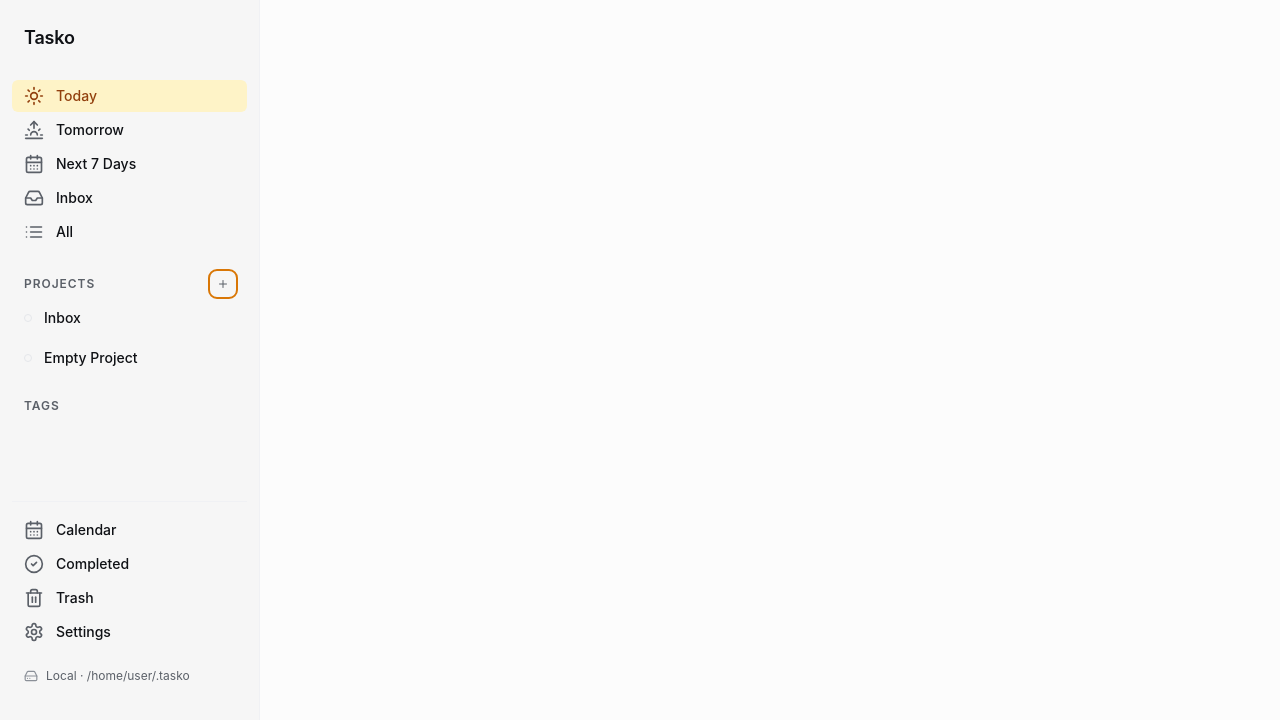
Test case: Sidebar — delete project cascade › shows 0 active items when project has no items
Right-click the list item "Empty Project": (81, 358) [24,349,138,366]
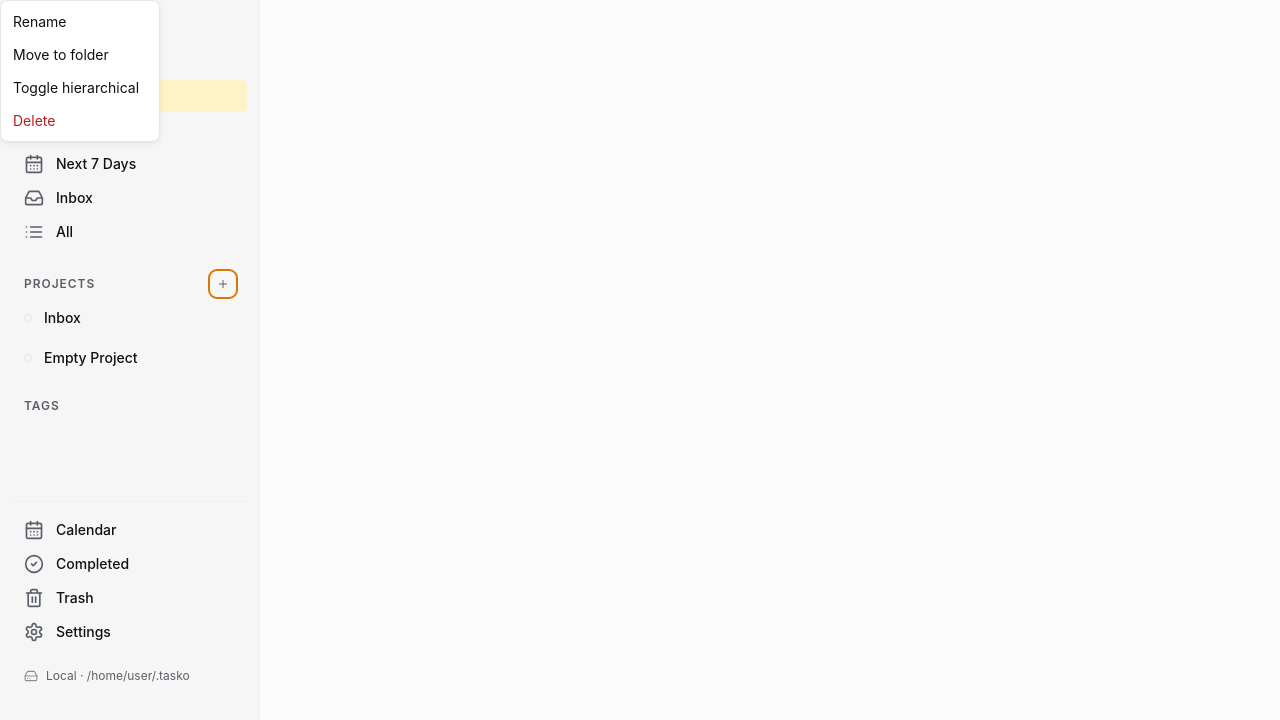
Click the menu item "Delete": (80, 120) [1,104,159,137]
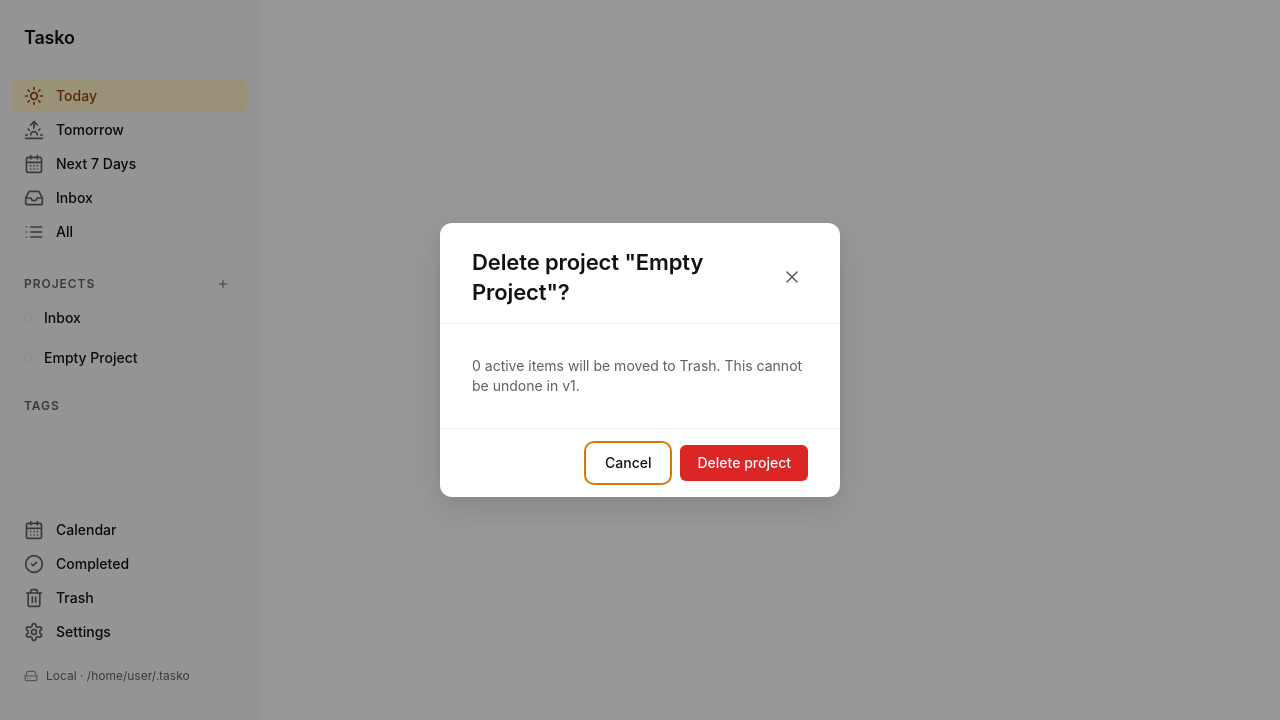
Now the text "0 active items will be moved to Trash. This cannot be undone in v1." is shown, box [472,356,808,396]
